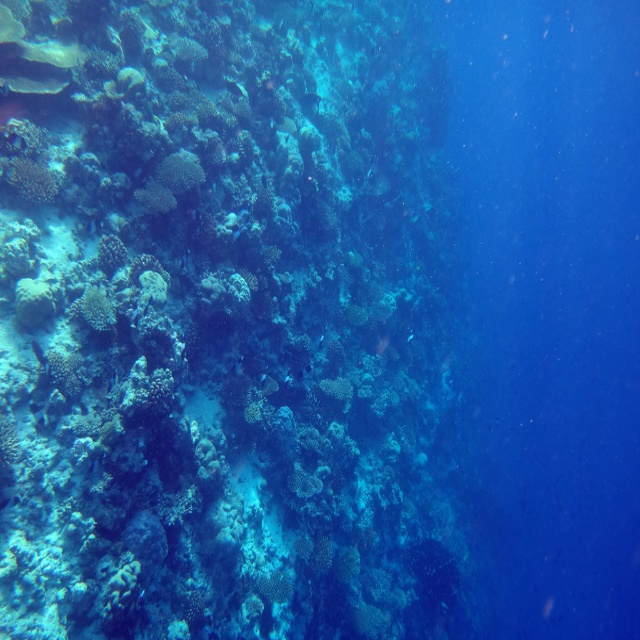Fish: (28, 400, 47, 431)
